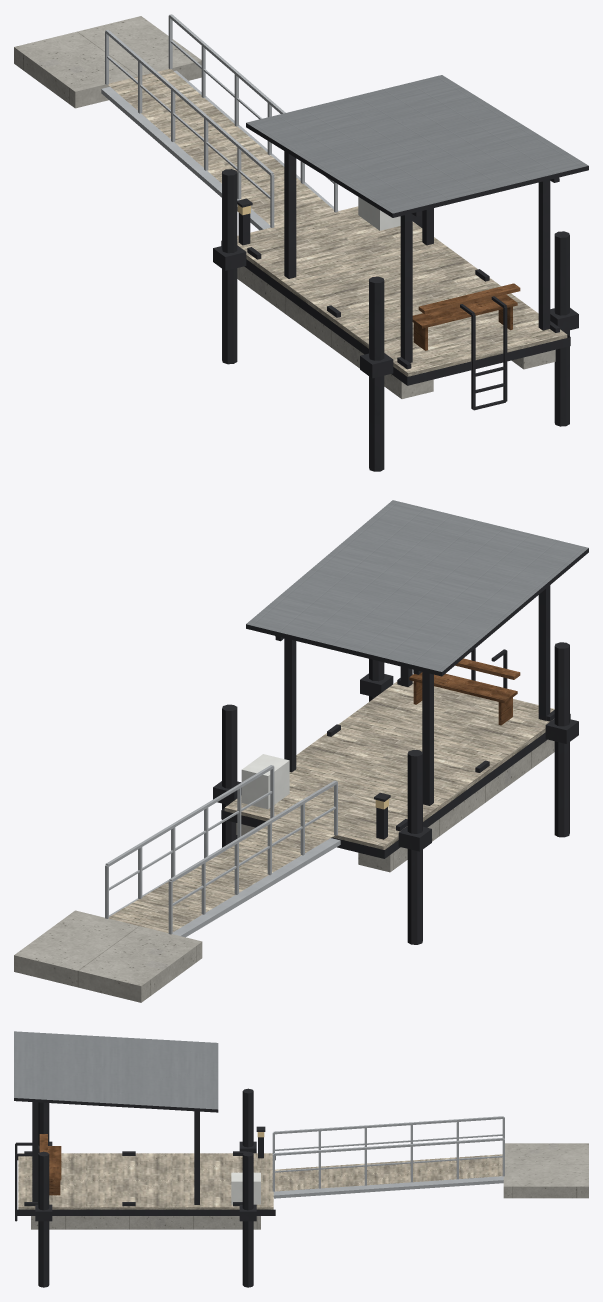
Rendered from desert_shade_dock.fbx.
3 renders of one model, top to bottom at view 1: azimuth 30°, elevation 25°; view 2: azimuth 150°, elevation 25°; view 3: azimuth 270°, elevation 25°, orthographic. The views are drawn at different scales.
Visible parts, largest first — view 1: desert_shade_dock_LOD0; view 2: desert_shade_dock_LOD0; view 3: desert_shade_dock_LOD0.
Part boxes in pixels (<box>): desert_shade_dock_LOD0: <box>14,14,588,471</box>; desert_shade_dock_LOD0: <box>14,500,588,1002</box>; desert_shade_dock_LOD0: <box>14,1031,588,1287</box>.
Size of what is drawn, in the model's own units: 3.9 by 4.9 by 13.5.
1 material, 1 textured.
